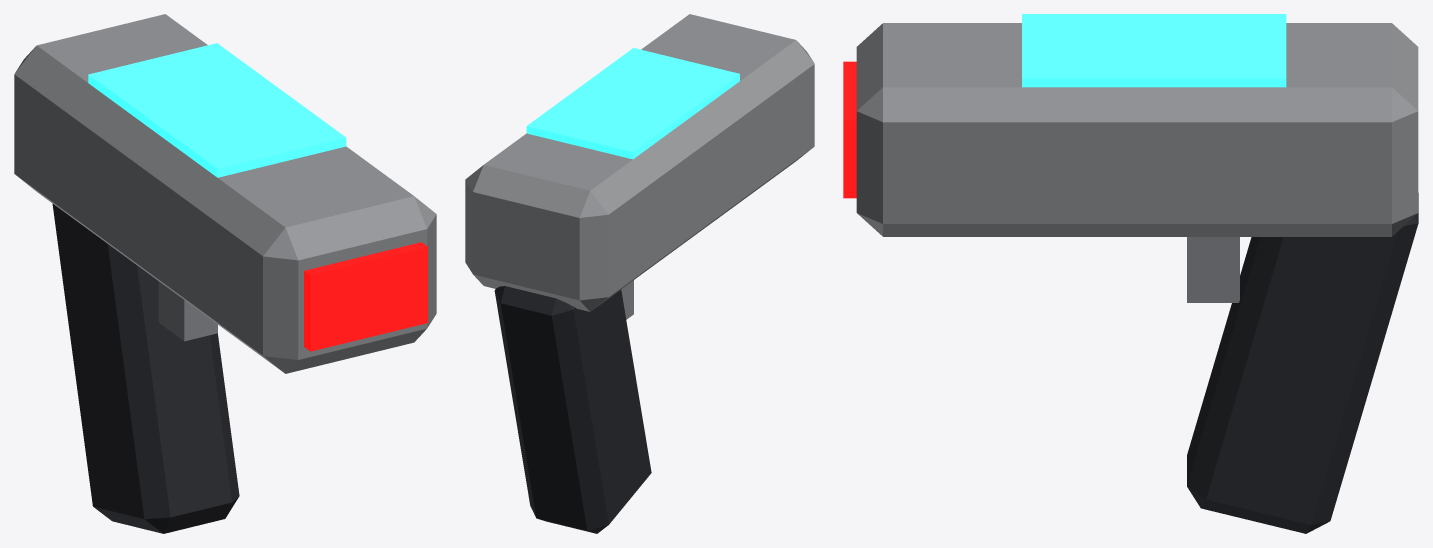
File: SM_Escaner.fbx
3 views of the same model, side by side, from view 1: azimuth 30°, elevation 25°; view 2: azimuth 150°, elevation 25°; view 3: azimuth 270°, elevation 25° (orthographic). The views are drawn at different scales.
Visible parts, largest first — view 1: SM_Escaner; view 2: SM_Escaner; view 3: SM_Escaner.
Boxes of the visible parts, box(x1,y1,x2,y2) form: SM_Escaner: box(14, 14, 436, 533); SM_Escaner: box(465, 14, 814, 533); SM_Escaner: box(843, 14, 1418, 533).
Size of the model in its own units: 0.062 by 0.1578 by 0.1741.
